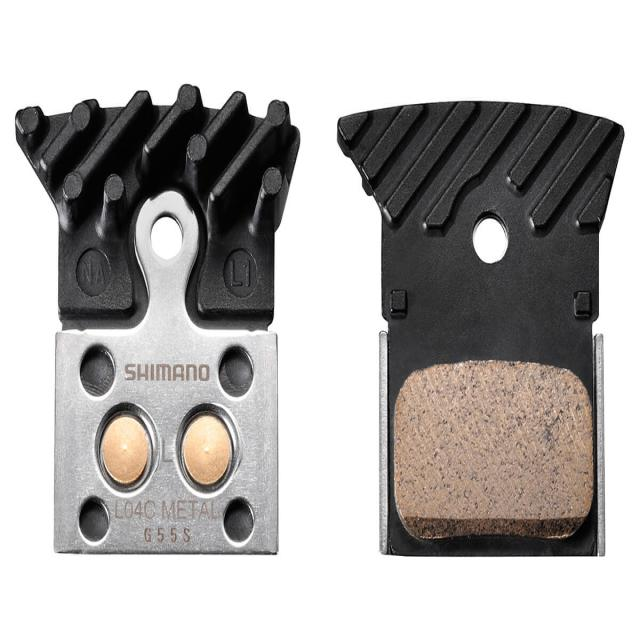brake_pad: (14, 77, 314, 568), (330, 104, 623, 566)
